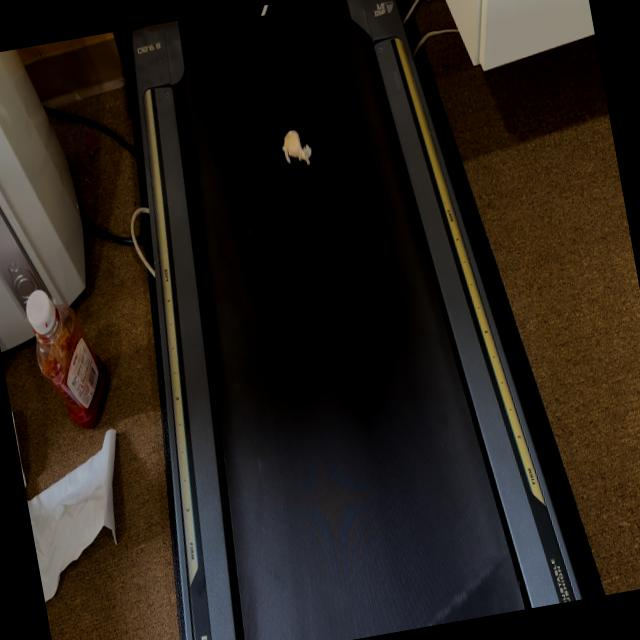Recycle: (278, 126, 316, 169)
